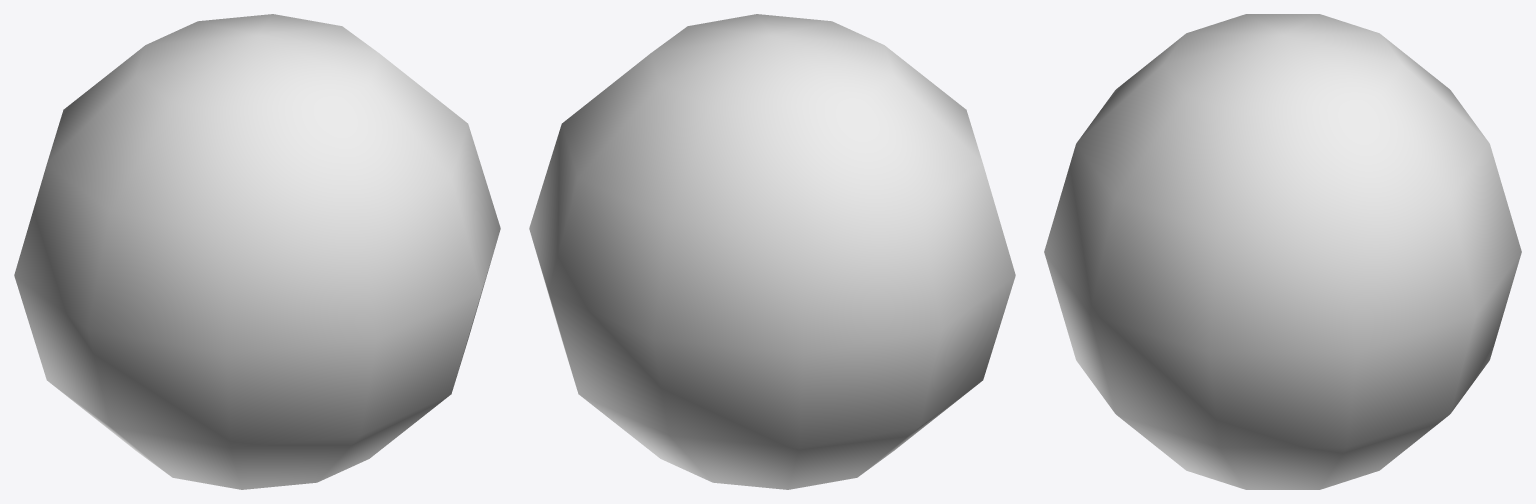
The model's file is SM_Props_Pool_03.fbx.
3 renders of one model, left to right at view 1: azimuth 30°, elevation 25°; view 2: azimuth 150°, elevation 25°; view 3: azimuth 270°, elevation 25°, orthographic.
Visible parts, largest first — view 1: SM_Props_Pool_03; view 2: SM_Props_Pool_03; view 3: SM_Props_Pool_03.
Boxes of the visible parts, <box> form: SM_Props_Pool_03: <box>14,14,500,489</box>; SM_Props_Pool_03: <box>529,14,1015,489</box>; SM_Props_Pool_03: <box>1044,14,1521,489</box>.
Size of the model in its own units: 0.08 by 0.08 by 0.08.
